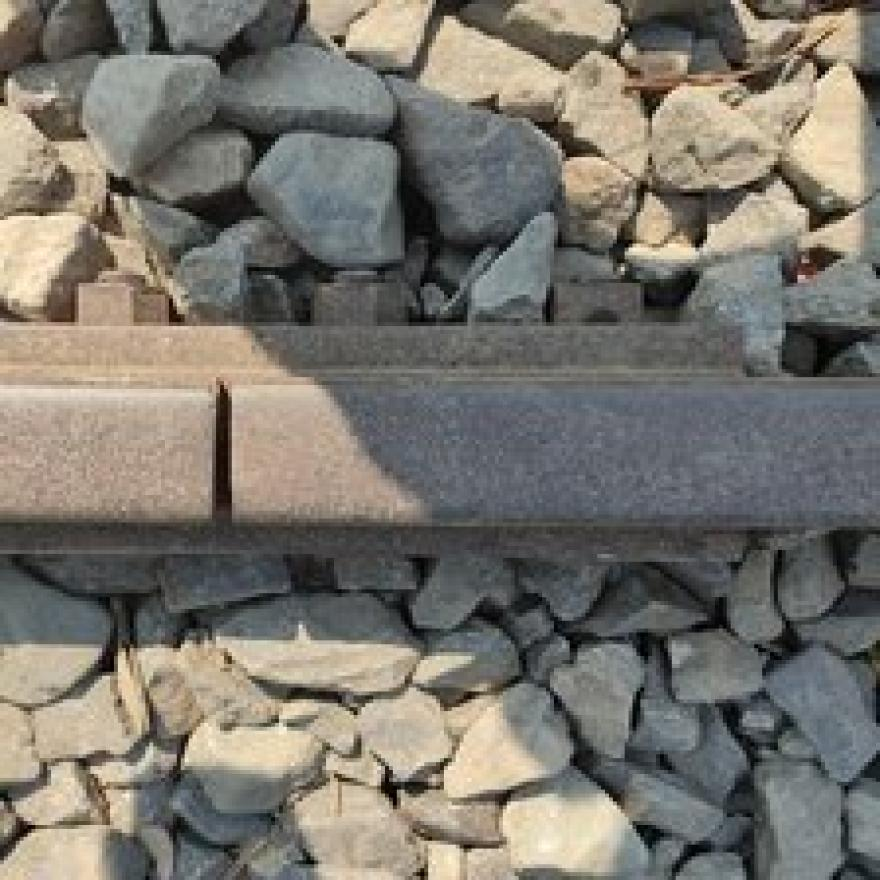railway-gap: (131, 370, 314, 535)
